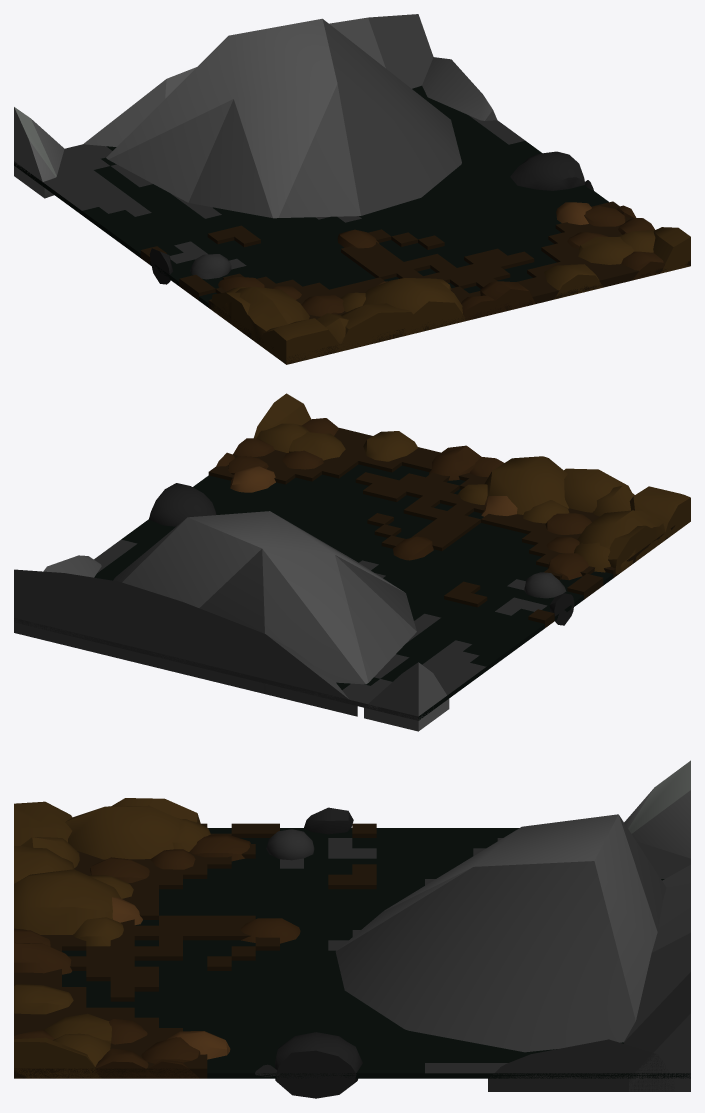
File: holes_rocks_bm.glb
The picture shows the model from 3 angles, top to bottom: view 1: azimuth 30°, elevation 25°; view 2: azimuth 150°, elevation 25°; view 3: azimuth 270°, elevation 25°; orthographic projection. The views are drawn at different scales.
Parts seen in each view (by area): view 1: holes_rocks_bm_rock_low, holes_rocks_bm_pit, holes_rocks_bm_dirt_base, holes_rocks_bm_rock_big, holes_rocks_bm_dirt_45, holes_rocks_bm_rock_mid, holes_rocks_bm_dirt_82, holes_rocks_bm_dirt_11, holes_rocks_bm_rock_right, holes_rocks_bm_dirt_26, holes_rocks_bm_pebble2, holes_rocks_bm_dirt_25 (+14 smaller); view 2: holes_rocks_bm_pit, holes_rocks_bm_rock_low, holes_rocks_bm_rock_big, holes_rocks_bm_dirt_base, holes_rocks_bm_rock_mid, holes_rocks_bm_dirt_45, holes_rocks_bm_dirt_82, holes_rocks_bm_pebble2, holes_rocks_bm_dirt_26, holes_rocks_bm_dirt_11, holes_rocks_bm_dirt_61, holes_rocks_bm_dirt_25 (+17 smaller); view 3: holes_rocks_bm_rock_low, holes_rocks_bm_pit, holes_rocks_bm_dirt_base, holes_rocks_bm_rock_big, holes_rocks_bm_rock_right, holes_rocks_bm_dirt_45, holes_rocks_bm_dirt_82, holes_rocks_bm_pebble2, holes_rocks_bm_rock_mid, holes_rocks_bm_dirt_25, holes_rocks_bm_dirt_26, holes_rocks_bm_dirt_103 (+20 smaller).
Part boxes in pixels (x1,y1,x2,y2): holes_rocks_bm_rock_low: (106,18,461,218); holes_rocks_bm_pit: (14,85,608,307); holes_rocks_bm_dirt_base: (140,201,690,364); holes_rocks_bm_rock_big: (83,14,433,146); holes_rocks_bm_dirt_45: (362,278,466,336); holes_rocks_bm_rock_mid: (14,107,64,198); holes_rocks_bm_dirt_82: (221,286,309,344); holes_rocks_bm_dirt_11: (337,303,424,352); holes_rocks_bm_rock_right: (422,57,497,120); holes_rocks_bm_dirt_26: (259,318,340,364); holes_rocks_bm_pebble2: (510,151,584,190); holes_rocks_bm_dirt_25: (653,227,690,273); holes_rocks_bm_pit: (14,464,613,720); holes_rocks_bm_rock_low: (113,511,416,694); holes_rocks_bm_rock_big: (14,569,357,716); holes_rocks_bm_dirt_base: (208,427,675,627); holes_rocks_bm_rock_mid: (364,662,449,731); holes_rocks_bm_dirt_45: (484,456,568,514); holes_rocks_bm_dirt_82: (577,510,665,572); holes_rocks_bm_pebble2: (149,483,216,526); holes_rocks_bm_dirt_26: (629,486,690,538); holes_rocks_bm_dirt_11: (564,468,631,512); holes_rocks_bm_dirt_61: (363,431,417,461); holes_rocks_bm_dirt_25: (254,393,310,438); holes_rocks_bm_rock_low: (335,814,666,1052); holes_rocks_bm_pit: (62,828,690,1078); holes_rocks_bm_dirt_base: (14,823,376,1078); holes_rocks_bm_rock_big: (624,864,690,1091); holes_rocks_bm_rock_right: (488,1039,674,1091); holes_rocks_bm_dirt_45: (14,869,121,934); holes_rocks_bm_dirt_82: (65,805,183,859); holes_rocks_bm_pebble2: (275,1032,362,1098); holes_rocks_bm_rock_mid: (624,760,690,858); holes_rocks_bm_dirt_25: (14,1037,99,1078); holes_rocks_bm_dirt_26: (14,801,72,845); holes_rocks_bm_dirt_103: (14,942,71,974).
Size of the model in its own units: 23.98 by 7.2 by 27.98.
